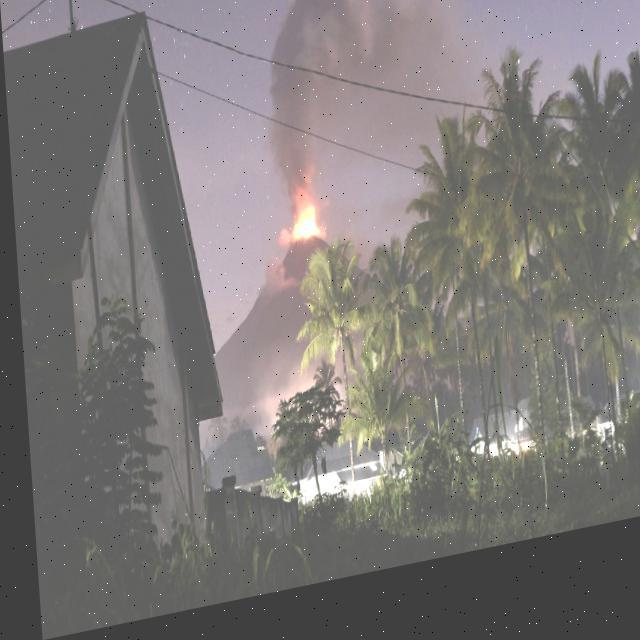Fire: (276, 211, 324, 263)
